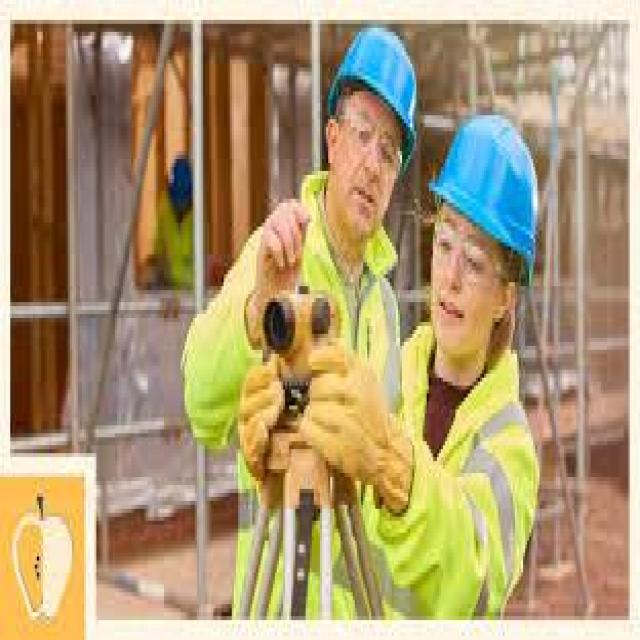Reflective-Jacket: (220, 191, 404, 624), (386, 330, 542, 624)
Safety-Helmet: (428, 100, 546, 274), (322, 20, 425, 155)
